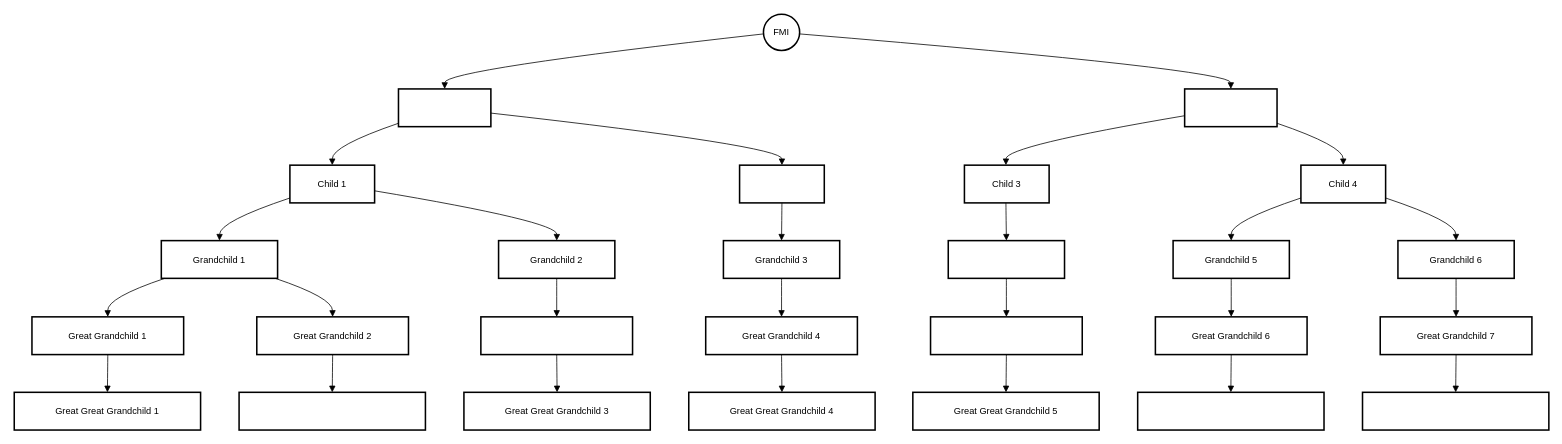
Some shapes in this 1562 by 444 pixel diagram are drawn without their labels. The box of each missing label's shape, as (x1, y1, x2, y2) in pixels:
Child 2: (738, 164, 825, 203)
fmi_calculator: (397, 88, 491, 127)
fmi_database: (1183, 88, 1277, 127)
Grandchild 4: (947, 239, 1065, 279)
Great Grandchild 3: (480, 316, 633, 355)
Great Grandchild 5: (929, 316, 1083, 355)
Great Great Grandchild 2: (238, 391, 426, 430)
Great Great Grandchild 6: (1137, 391, 1324, 430)
Great Great Grandchild 7: (1361, 391, 1549, 430)
